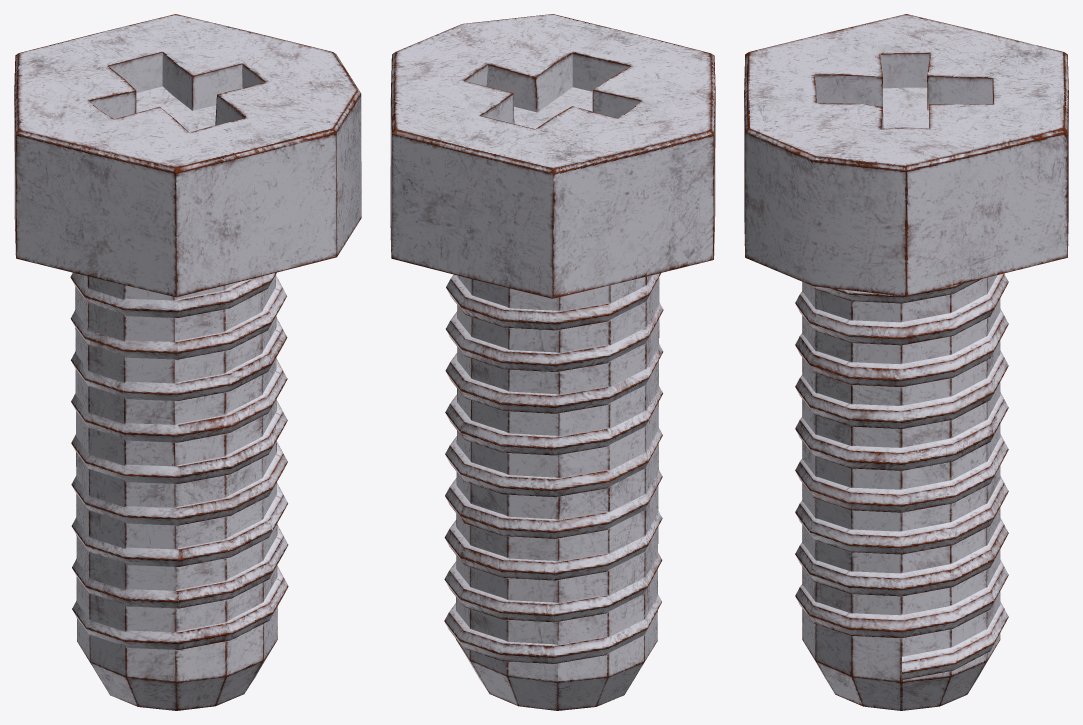
Rendered from NewScrewCombined 2.fbx.
3 renders of one model, left to right at view 1: azimuth 30°, elevation 25°; view 2: azimuth 150°, elevation 25°; view 3: azimuth 270°, elevation 25°, orthographic.
Visible parts, largest first — view 1: newcombinedscrew_GEO; view 2: newcombinedscrew_GEO; view 3: newcombinedscrew_GEO.
Part boxes in pixels (x1=…): newcombinedscrew_GEO: x1=14, y1=14, x2=361, y2=710; newcombinedscrew_GEO: x1=390, y1=14, x2=715, y2=710; newcombinedscrew_GEO: x1=744, y1=14, x2=1068, y2=710.
Size of the model in its own units: 68.22 by 119 by 59.37.
